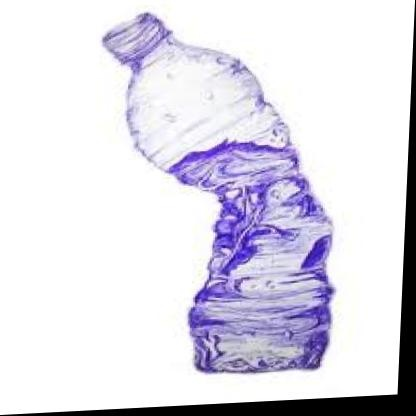trash: (103, 13, 332, 371)
